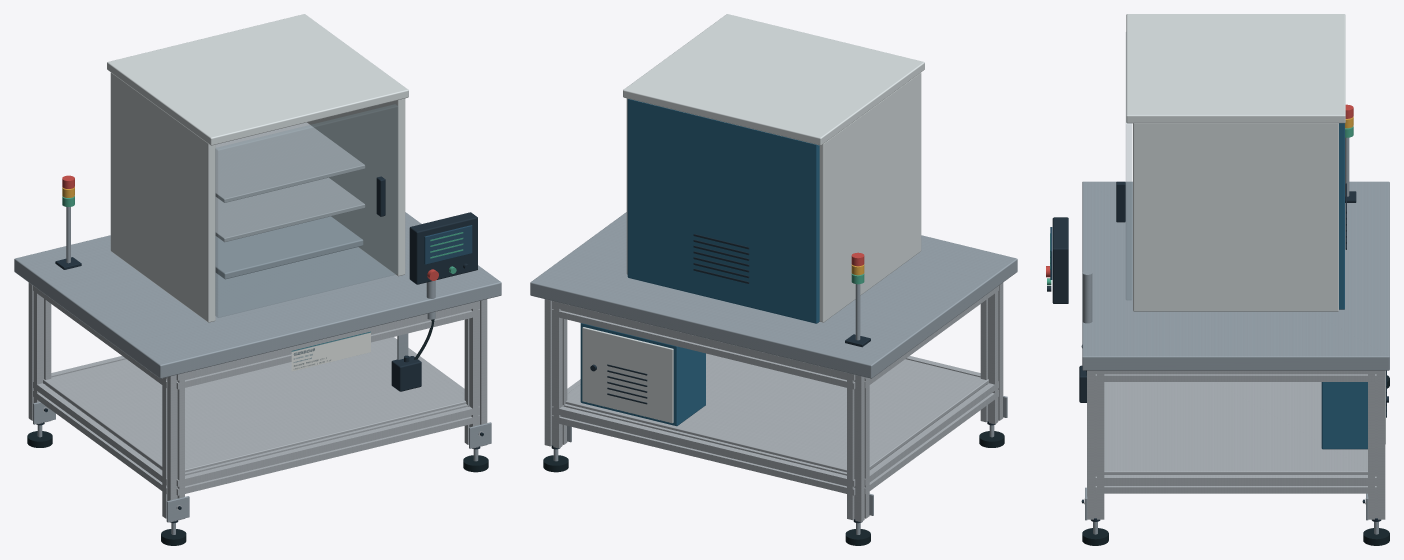
File: environment-test-cell.glb
3 views of the same model, side by side, from view 1: azimuth 30°, elevation 25°; view 2: azimuth 150°, elevation 25°; view 3: azimuth 270°, elevation 25° (orthographic). The views are drawn at different scales.
Visible parts, largest first — view 1: ClosedMachineBed_40, DoorFrame_75, LowerShelf_41, ClosedRoof_74, EnclosureSide_71, EnclosureSide_72, InternalRack_79, SlottedExtrusion_34, InternalRack_78, ProcessShelf_77, SlottedExtrusion_35, SlottedExtrusion_11 (+8 smaller); view 2: ClosedBack_73, ClosedMachineBed_40, ClosedRoof_74, LowerShelf_41, EnclosureSide_71, BackDoor_43, SlottedExtrusion_32, SlottedExtrusion_33, SlottedExtrusion_3, SlottedExtrusion_19, Cabinet_42, SlottedExtrusion_36 (+2 smaller); view 3: EnclosureSide_72, ClosedMachineBed_40, ClosedRoof_74, LowerShelf_41, SlottedExtrusion_38, SlottedExtrusion_39, Cabinet_42, SlottedExtrusion_27, SlottedExtrusion_19, ConsoleBack_52, ClosedBack_73, DoorFrame_75 (+1 smaller).
Boxes of the visible parts, <box> form: ClosedMachineBed_40: <box>14,212,501,378</box>; DoorFrame_75: <box>215,104,397,317</box>; LowerShelf_41: <box>43,338,466,472</box>; ClosedRoof_74: <box>107,14,408,145</box>; EnclosureSide_71: <box>110,72,215,322</box>; EnclosureSide_72: <box>307,98,405,276</box>; InternalRack_79: <box>215,122,365,202</box>; SlottedExtrusion_34: <box>176,404,479,495</box>; InternalRack_78: <box>215,177,365,242</box>; ProcessShelf_77: <box>215,216,363,279</box>; SlottedExtrusion_35: <box>176,301,479,389</box>; SlottedExtrusion_11: <box>162,373,184,521</box>; ClosedBack_73: <box>627,99,819,323</box>; ClosedMachineBed_40: <box>530,212,1017,378</box>; ClosedRoof_74: <box>623,14,924,145</box>; LowerShelf_41: <box>565,353,988,472</box>; EnclosureSide_71: <box>819,72,921,322</box>; BackDoor_43: <box>582,327,673,423</box>; SlottedExtrusion_32: <box>552,404,855,495</box>; SlottedExtrusion_33: <box>552,301,855,389</box>; SlottedExtrusion_3: <box>847,374,869,521</box>; SlottedExtrusion_19: <box>544,299,567,448</box>; Cabinet_42: <box>580,323,705,426</box>; SlottedExtrusion_36: <box>864,381,998,494</box>; EnclosureSide_72: <box>1133,123,1338,311</box>; ClosedMachineBed_40: <box>1082,181,1389,370</box>; ClosedRoof_74: <box>1126,14,1345,123</box>; LowerShelf_41: <box>1104,382,1367,474</box>; SlottedExtrusion_38: <box>1095,475,1376,493</box>; SlottedExtrusion_39: <box>1095,370,1376,381</box>; Cabinet_42: <box>1321,382,1367,449</box>; SlottedExtrusion_27: <box>1087,370,1104,519</box>; SlottedExtrusion_19: <box>1368,370,1385,519</box>; ConsoleBack_52: <box>1052,217,1068,303</box>; ClosedBack_73: <box>1339,123,1344,309</box>; DoorFrame_75: <box>1126,123,1131,299</box>.
Size of the model in its own units: 1.55 by 1.64 by 1.29.
12 materials, 3 textured.
